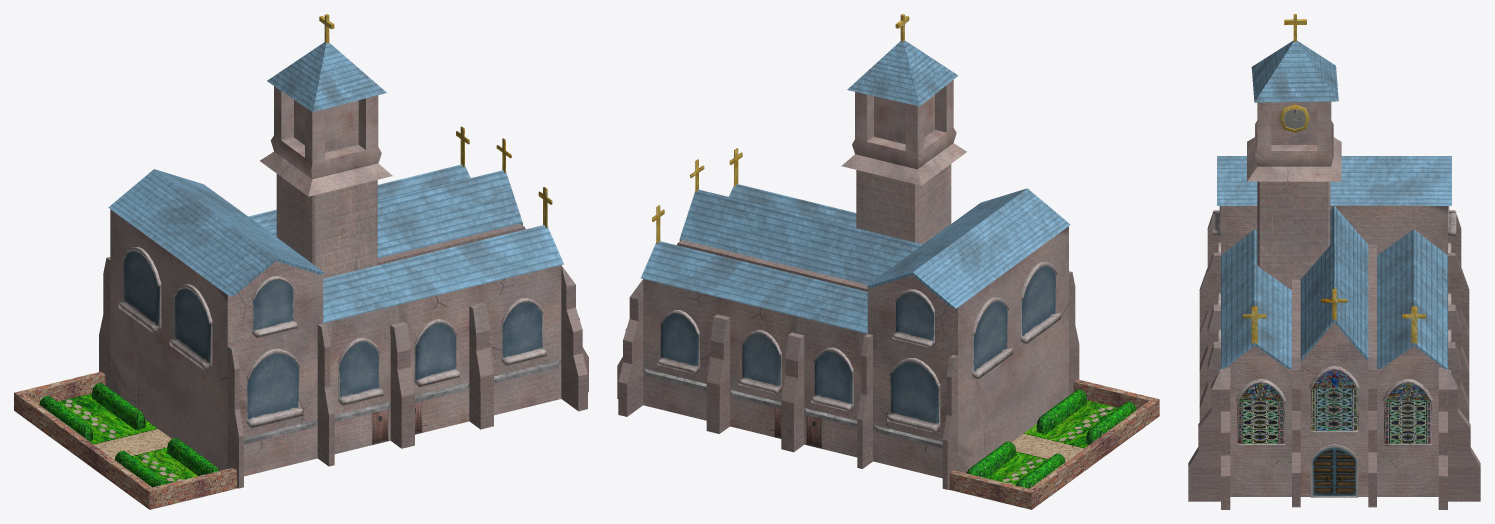
File: church1.fbx
3 renders of one model, left to right at view 1: azimuth 30°, elevation 25°; view 2: azimuth 150°, elevation 25°; view 3: azimuth 270°, elevation 25°, orthographic. The views are drawn at different scales.
Parts seen in each view (by area): view 1: polySurface45; view 2: polySurface45; view 3: polySurface45.
Boxes of the visible parts, x1,y1,x2,y2 form: polySurface45: (14, 14, 588, 509); polySurface45: (617, 14, 1159, 509); polySurface45: (1188, 14, 1480, 509).
Size of the model in its own units: 820 by 708 by 480.
